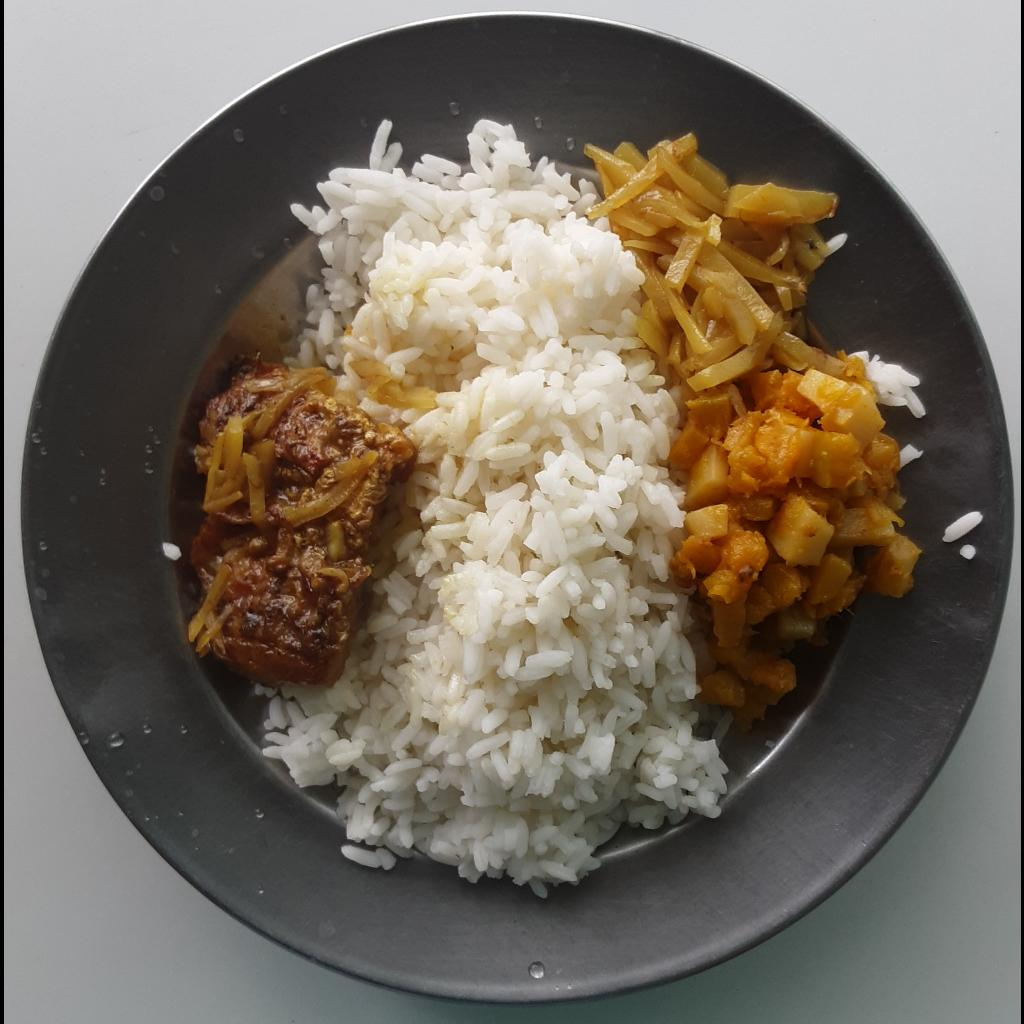fish: (187, 366, 415, 681)
kumra-vaji: (668, 356, 922, 700)
potato: (583, 126, 841, 425)
rice: (260, 115, 724, 901), (869, 352, 925, 420), (938, 505, 984, 537)
